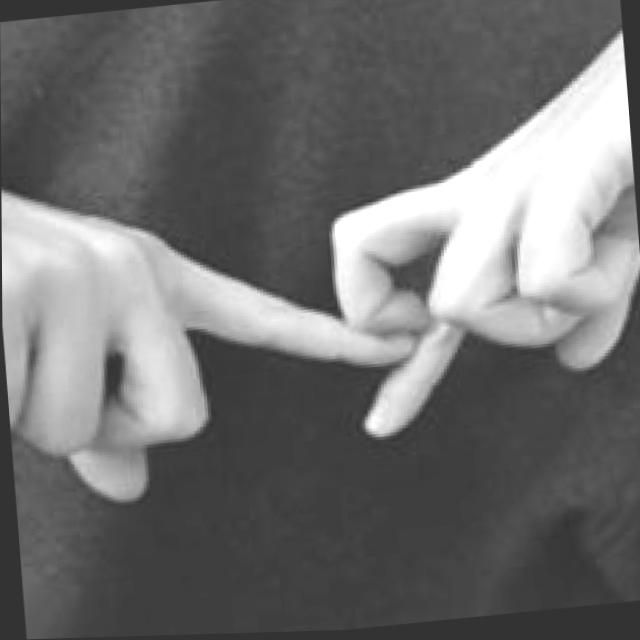R: (0, 20, 640, 516)
